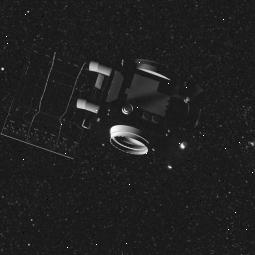proba_3_csc: (0, 61, 207, 161)
